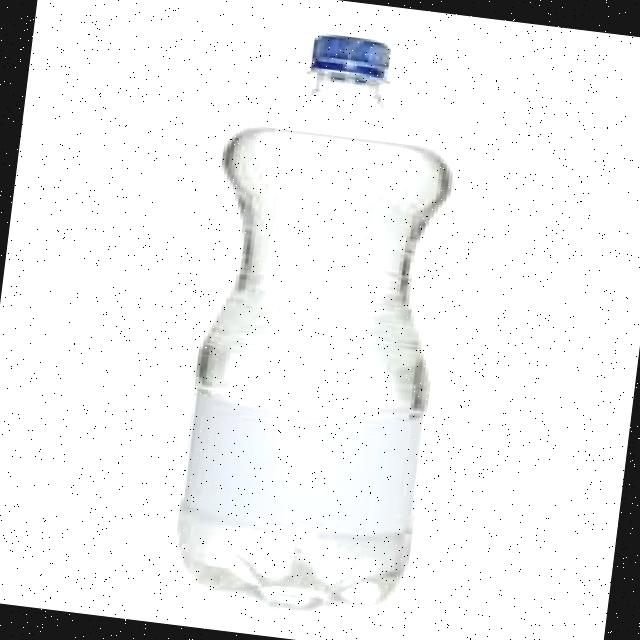bottle: (138, 9, 502, 628)
cap: (304, 24, 397, 84)
